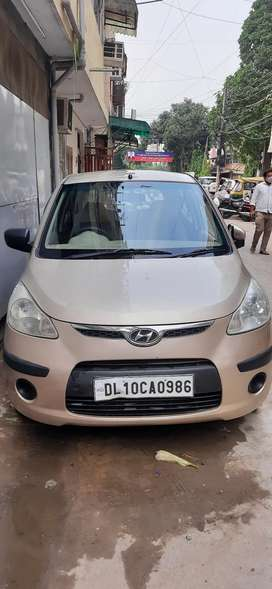DL10CA0986: (93, 373, 192, 401)
